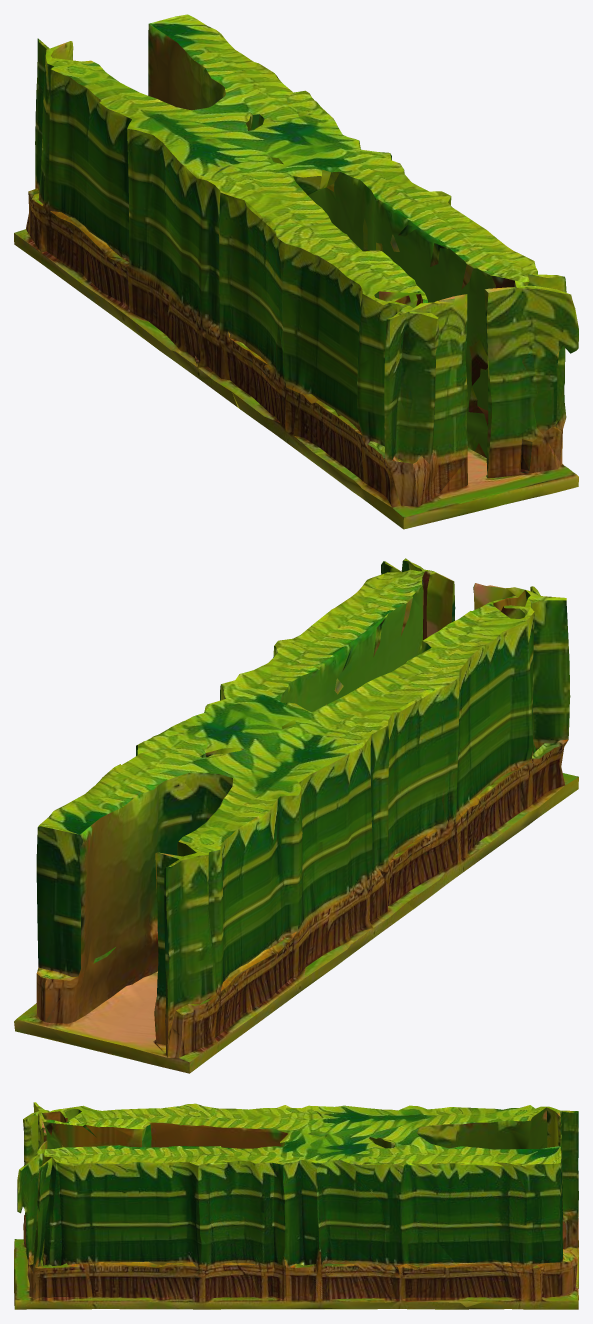
The model's file is sagano-bamboo-grove.glb.
The picture shows the model from 3 angles, top to bottom: view 1: azimuth 30°, elevation 25°; view 2: azimuth 150°, elevation 25°; view 3: azimuth 270°, elevation 25°; orthographic projection. The views are drawn at different scales.
Visible parts, largest first — view 1: logan-textured.obj; view 2: logan-textured.obj; view 3: logan-textured.obj.
Boxes of the visible parts, x1,y1,x2,y2 form: logan-textured.obj: (14, 14, 578, 529); logan-textured.obj: (14, 558, 578, 1073); logan-textured.obj: (14, 1102, 578, 1309).
Size of the model in its own units: 0.2743 by 0.2889 by 1.
1 material, 1 textured.
